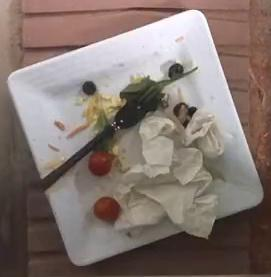tomato: (93, 196, 119, 219), (88, 150, 112, 174)
vegetables: (113, 76, 156, 128)
